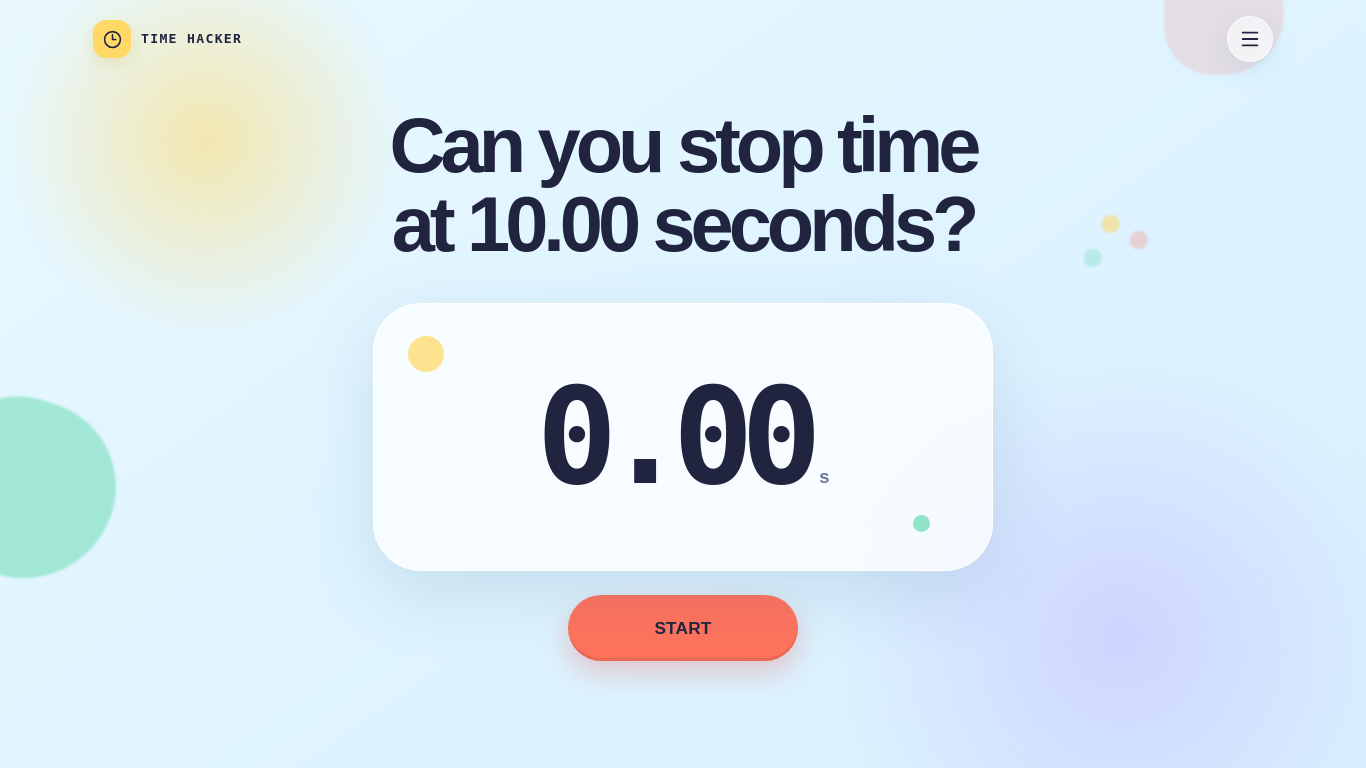
Test: TimeHackerApp › shows and cancels the scoped reset confirmation
This screenshot has width=1366, height=768.
Check: the button "START" is shown, box left=568, top=596, right=798, bottom=662
Click the button named "Open game menu" at (1250, 39), box left=1227, top=16, right=1273, bottom=62
(page scrolled)
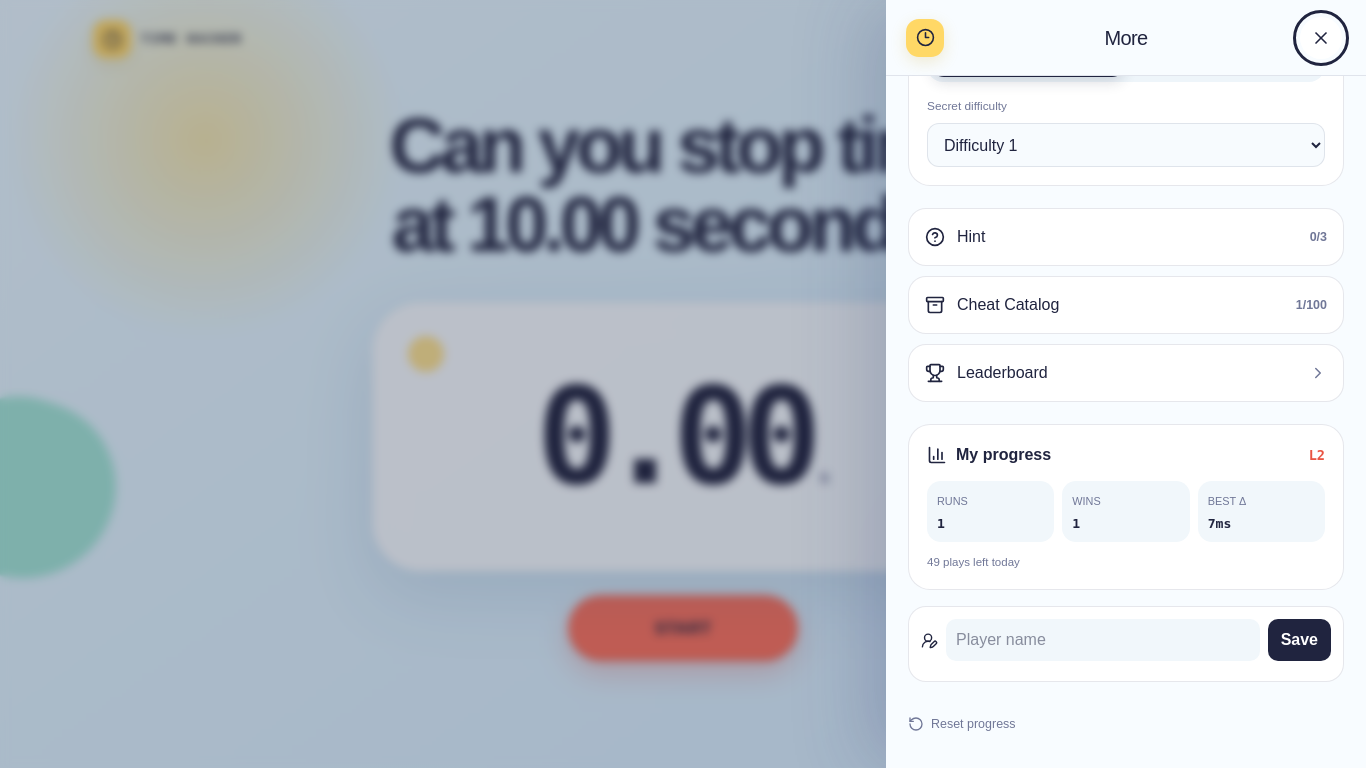
Click the button "Reset progress" at (962, 724), box left=908, top=702, right=1016, bottom=746
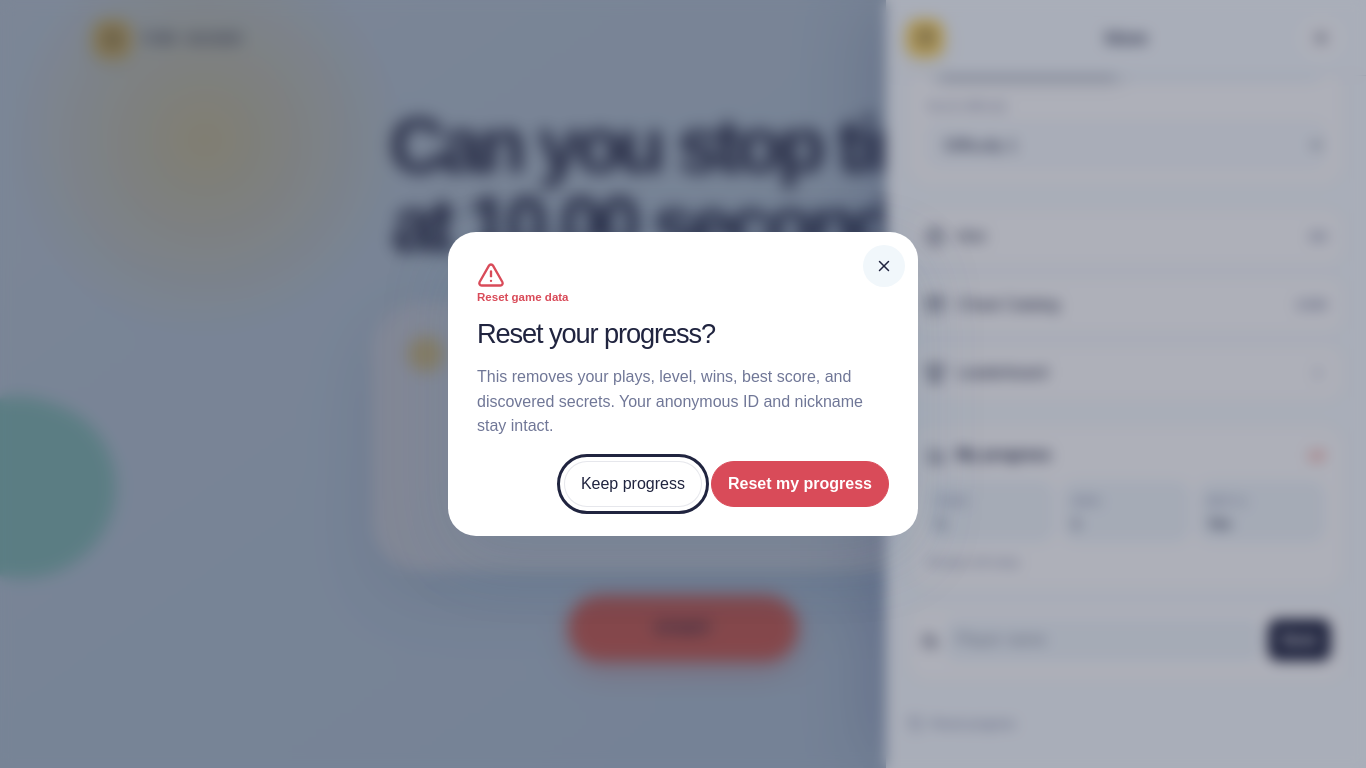
Check: the dialog "Reset your progress" is shown, box left=448, top=232, right=918, bottom=536
Click the button "Keep progress" at (633, 484), box left=564, top=461, right=702, bottom=507
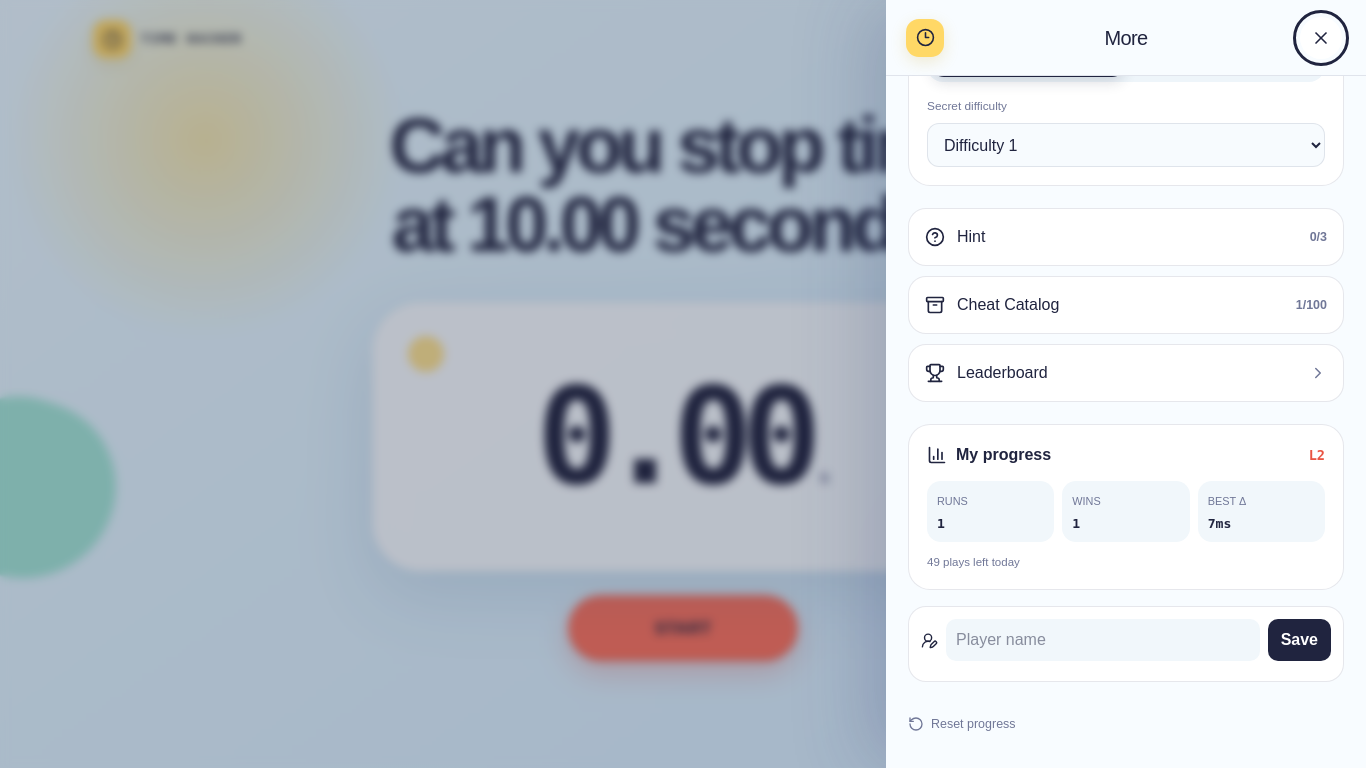
Check: the heading "Reset your progress" is gone
